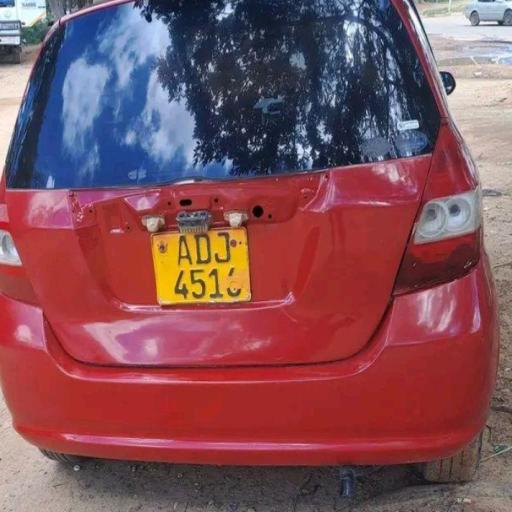number-plates: (150, 222, 254, 307)
